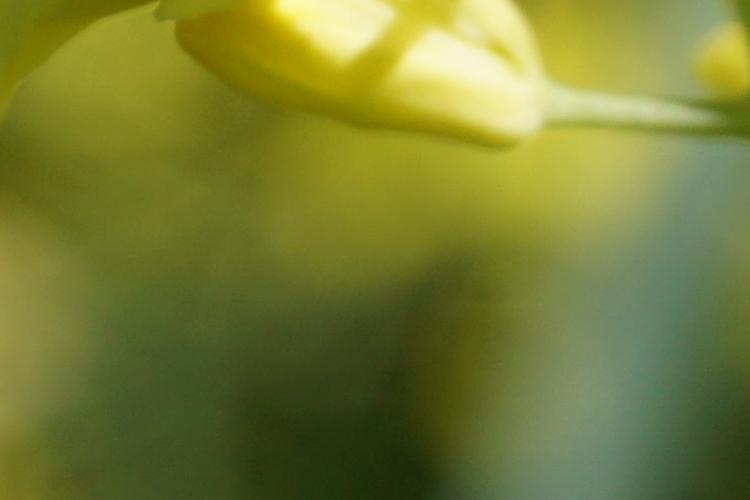bud: (190, 9, 559, 160)
